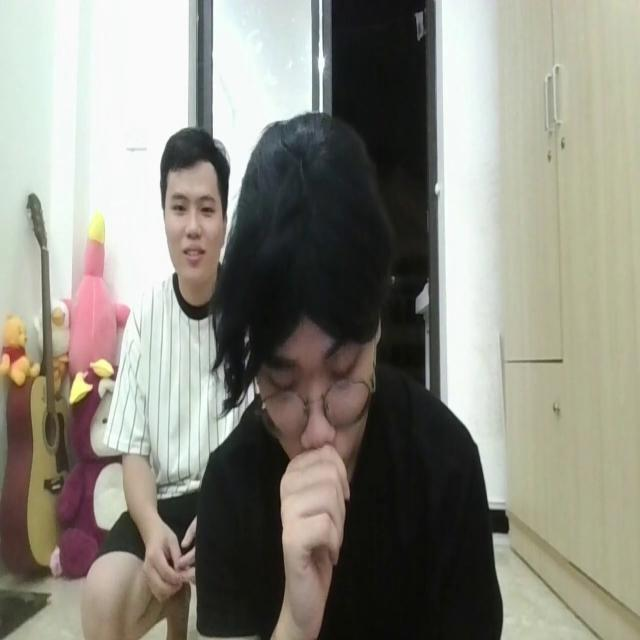extra_person: (108, 123, 260, 496)
student: (194, 113, 506, 640)
